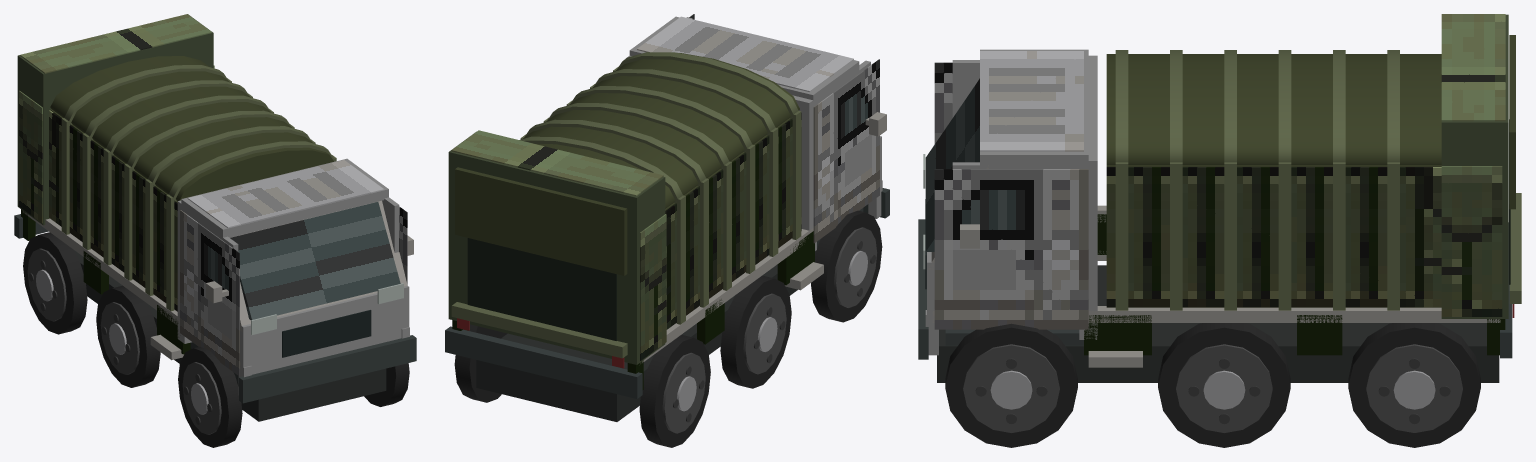
Rendered from CMU3DRMCPropVehicleSmallTruckGarbageF.glb.
The picture shows the model from 3 angles, left to right: view 1: azimuth 30°, elevation 25°; view 2: azimuth 150°, elevation 25°; view 3: azimuth 270°, elevation 25°; orthographic projection. The views are drawn at different scales.
Visible parts, largest first — view 1: rounded compactor roof, continuous sloped windshield, original compactor side -1, original cab door -1, original cab roof, cab lower front, front bumper, rear packer frame, original packer roof, ladder chassis, tire 3 -1, tire 2 -1 (+32 smaller); view 2: rounded compactor roof, rear upper pressing plate, original compactor side -1, rear loading recess, rear packer frame, original cab door -1, original cab roof, ladder chassis, rear bumper, original packer roof, tire 2 -1, tire 3 -1 (+28 smaller); view 3: original compactor side 1, rounded compactor roof, original cab door 1, original cab roof, original packer side 1, ladder chassis, original packer roof, tire 3 1, tire 2 1, tire 1 1, wheel arch top rail 1, rim 3 1 (+32 smaller).
Part boxes in pixels (box(x1,y1,x2,y2)): rounded compactor roof: box(50, 56, 333, 201); continuous sloped windshield: box(230, 202, 400, 320); original compactor side -1: box(49, 110, 177, 311); original cab door -1: box(180, 210, 239, 376); original cab roof: box(187, 160, 384, 228); cab lower front: box(240, 285, 409, 374); front bumper: box(239, 335, 416, 403); rear packer frame: box(17, 14, 213, 225); original packer roof: box(20, 14, 211, 73); ladder chassis: box(74, 250, 386, 421); tire 3 -1: box(23, 232, 87, 334); tire 2 -1: box(96, 285, 160, 387); rounded compactor roof: box(523, 53, 799, 208); rear upper pressing plate: box(455, 167, 627, 275); original compactor side -1: box(665, 113, 801, 329); rear loading recess: box(467, 238, 616, 340); rear packer frame: box(448, 131, 665, 364); original cab door -1: box(813, 59, 879, 243); original cab roof: box(637, 16, 853, 92); ladder chassis: box(476, 250, 816, 421); rear bumper: box(445, 326, 642, 398); original packer roof: box(451, 130, 663, 196); tire 2 -1: box(720, 275, 791, 388); tire 3 -1: box(639, 334, 710, 447); original compactor side 1: box(1106, 167, 1441, 307); rounded compactor roof: box(1106, 54, 1441, 165); original cab door 1: box(934, 169, 1088, 329); original cab roof: box(980, 51, 1083, 151); original packer side 1: box(1441, 166, 1502, 316); ladder chassis: box(937, 265, 1499, 382); original packer roof: box(1441, 14, 1505, 121); tire 3 1: box(1348, 323, 1480, 447); tire 2 1: box(1158, 323, 1290, 447); tire 1 1: box(945, 323, 1077, 447); wheel arch top rail 1: box(932, 306, 1500, 322); rim 3 1: box(1366, 344, 1462, 432).
Size of the model in its own units: 1.04 by 1.23 by 2.08.
Materials: 28 (6 with a texture image).
